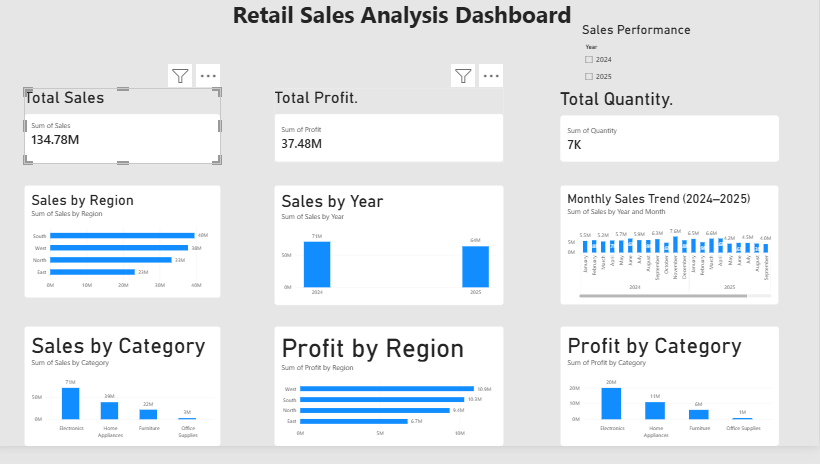

This screenshot's page, from the dashboard's own definition file:
{"tool":"powerbi","page":{"name":"Page 1","canvas":[1920,1080],"ordinal":0},"visuals":[{"type":"textbox","box":[0,0,1902.5,150],"z":0},{"type":"cardVisual","title":"Total Sales","fields":{"Data":["Sum(Cleaned_Data.Sales)"]},"box":[72.5,247.5,457.5,175],"z":1000},{"type":"cardVisual","title":"Total Profit.","fields":{"Data":["Sum(Cleaned_Data.Profit)"]},"box":[652.5,247.5,535,172.5],"z":2000},{"type":"cardVisual","title":"Total Quantity.","fields":{"Data":["Sum(Cleaned_Data.Quantity)"]},"box":[1317.5,247.5,510,172.5],"z":3000},{"type":"clusteredColumnChart","title":"Monthly Sales Trend (2024–2025)","fields":{"Category":["Cleaned_Data.Order_Date.Variation.Date Hierarchy.Year","Cleaned_Data.Order_Date.Variation.Date Hierarchy.Month"],"Y":["Sum(Cleaned_Data.Sales)"]},"box":[1318.6,472.1,509.3,279.1],"z":4000},{"type":"clusteredColumnChart","title":" Sales by Year","fields":{"Category":["Cleaned_Data.Order_Date.Variation.Date Hierarchy.Year"],"Y":["Sum(Cleaned_Data.Sales)"]},"box":[652.5,472.5,535,280],"z":5000},{"type":"clusteredBarChart","title":"Sales by Region","fields":{"Category":["Cleaned_Data.Region"],"Y":["Sum(Cleaned_Data.Sales)"]},"box":[72.5,472.5,457.5,262.5],"z":6000},{"type":"slicer","title":"Sales Performance","fields":{"Values":["Cleaned_Data.Order_Date.Variation.Date Hierarchy.Year"]},"box":[1370,92.5,290,155],"z":8000},{"type":"clusteredBarChart","title":"Profit by Region","fields":{"Category":["Cleaned_Data.Region"],"Y":["Sum(Cleaned_Data.Profit)"]},"box":[652.5,800,535,280],"z":9000},{"type":"clusteredColumnChart","title":"Profit by Category","fields":{"Category":["Cleaned_Data.Category"],"Y":["Sum(Cleaned_Data.Profit)"]},"box":[1317.5,800,510,280],"z":10000},{"type":"clusteredColumnChart","title":"Sales by Category","fields":{"Category":["Cleaned_Data.Category"],"Y":["Sum(Cleaned_Data.Sales)"]},"box":[72.5,800,457.5,280],"z":10001}]}

Visuals, with their boxes in screenshot pixels (x1, y1, x2, y2), scaled from the page's 1920x1080 canvas onto the 820x464 screenshot:
textbox: (x1=0, y1=0, x2=813, y2=64)
"Total Sales" cardVisual: (x1=31, y1=106, x2=226, y2=182)
"Total Profit." cardVisual: (x1=279, y1=106, x2=507, y2=180)
"Total Quantity." cardVisual: (x1=563, y1=106, x2=780, y2=180)
"Monthly Sales Trend (2024–2025)" clusteredColumnChart: (x1=563, y1=203, x2=781, y2=323)
" Sales by Year" clusteredColumnChart: (x1=279, y1=203, x2=507, y2=323)
"Sales by Region" clusteredBarChart: (x1=31, y1=203, x2=226, y2=316)
"Sales Performance" slicer: (x1=585, y1=40, x2=709, y2=106)
"Profit by Region" clusteredBarChart: (x1=279, y1=344, x2=507, y2=463)
"Profit by Category" clusteredColumnChart: (x1=563, y1=344, x2=780, y2=463)
"Sales by Category" clusteredColumnChart: (x1=31, y1=344, x2=226, y2=463)
